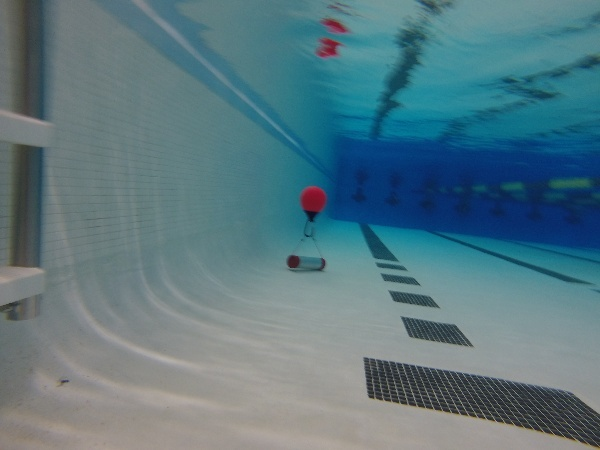buoy_red: (301, 186, 326, 221)
